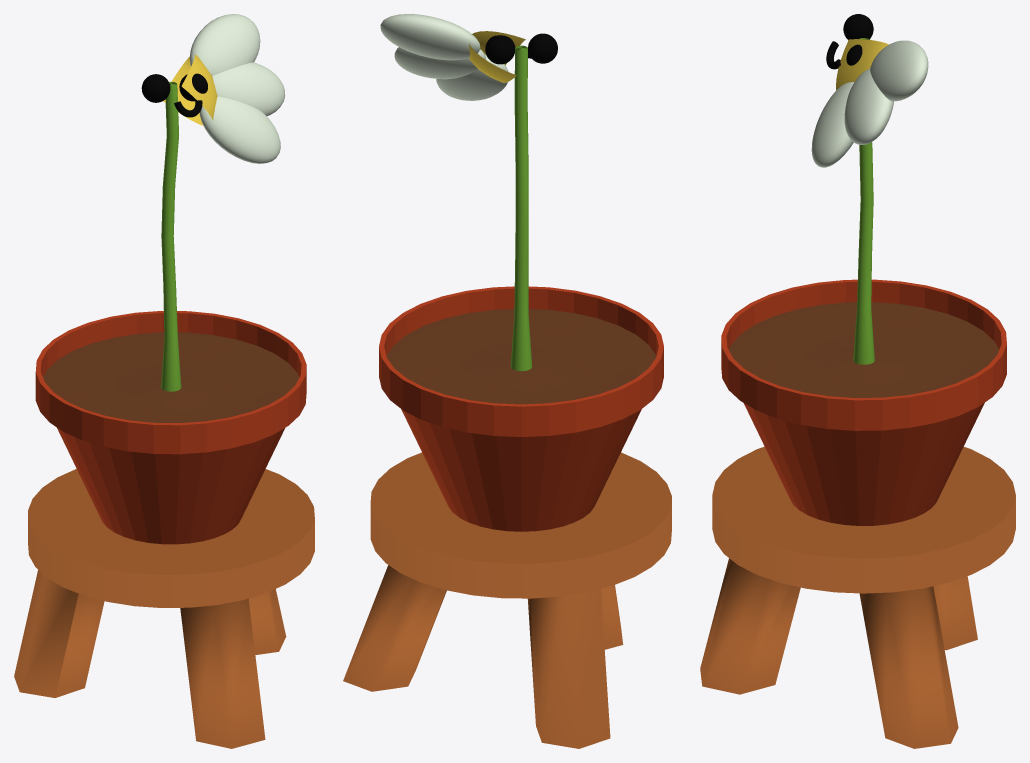
Rendered from main_gltf.glb.
3 views of the same model, side by side, from view 1: azimuth 30°, elevation 25°; view 2: azimuth 150°, elevation 25°; view 3: azimuth 270°, elevation 25° (orthographic). The views are drawn at different scales.
Parts seen in each view (by area): view 1: Cylinder.003, Cylinder.001, Cylinder.002, Sphere, Cylinder, Sphere.001, Sphère; view 2: Cylinder.003, Cylinder.001, Cylinder.002, Sphere, Cylinder, Sphere.001, Sphère, Sphère.001; view 3: Cylinder.003, Cylinder.001, Cylinder.002, Sphere, Cylinder, Sphere.001, Sphère.
Part boxes in pixels (bbox=[...]): Cylinder.003: bbox=[14, 469, 314, 748]; Cylinder.001: bbox=[35, 311, 306, 544]; Cylinder.002: bbox=[43, 332, 298, 422]; Sphere: bbox=[189, 14, 285, 163]; Cylinder: bbox=[161, 82, 181, 391]; Sphere.001: bbox=[163, 54, 217, 125]; Sphère: bbox=[141, 74, 170, 102]; Cylinder.003: bbox=[343, 452, 671, 748]; Cylinder.001: bbox=[379, 286, 663, 531]; Cylinder.002: bbox=[386, 309, 656, 404]; Sphere: bbox=[380, 14, 508, 100]; Cylinder: bbox=[510, 45, 532, 371]; Sphere.001: bbox=[469, 31, 525, 82]; Sphère: bbox=[528, 33, 557, 63]; Sphère.001: bbox=[485, 35, 515, 64]; Cylinder.003: bbox=[700, 446, 1015, 748]; Cylinder.001: bbox=[721, 279, 1006, 525]; Cylinder.002: bbox=[729, 302, 998, 397]; Sphere: bbox=[811, 40, 928, 167]; Cylinder: bbox=[853, 38, 874, 364]; Sphere.001: bbox=[836, 39, 888, 89]; Sphère: bbox=[843, 14, 873, 40].
Bounding box in the file's own units: 2.11 × 4.86 × 2.08.
